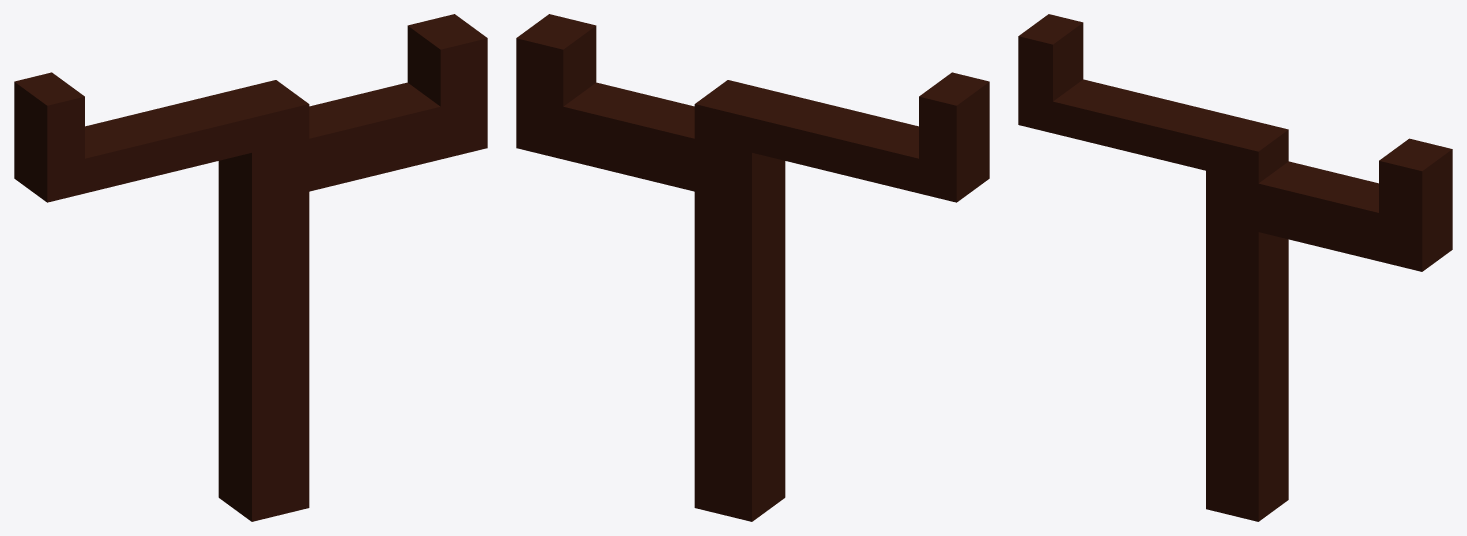
The model's file is trunk.obj.
The picture shows the model from 3 angles, left to right: view 1: azimuth 30°, elevation 25°; view 2: azimuth 150°, elevation 25°; view 3: azimuth 330°, elevation 25°; orthographic projection. The views are drawn at different scales.
Visible parts, largest first — view 1: Cube.003; view 2: Cube.003; view 3: Cube.003.
Part boxes in pixels (x1,y1,x2,y2): Cube.003: (14,14,487,521); Cube.003: (516,14,989,521); Cube.003: (1018,14,1452,521).
Bounding box in the file's own units: 3.18 × 3.21 × 0.4131.
